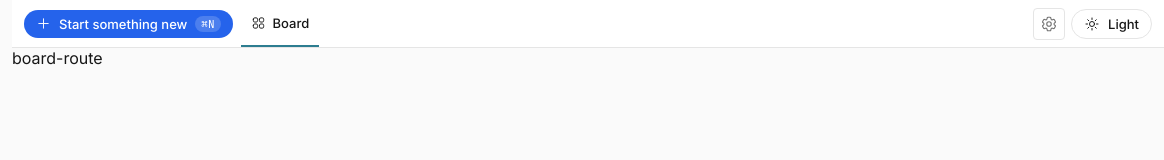
Test: WorkspaceTopBar — front-door 'Start something new' button (WP-001) › navigates to /start when clicked (route probe appears)
Click the button "Start something new ⌘N": (128, 24) [24,10,233,38]
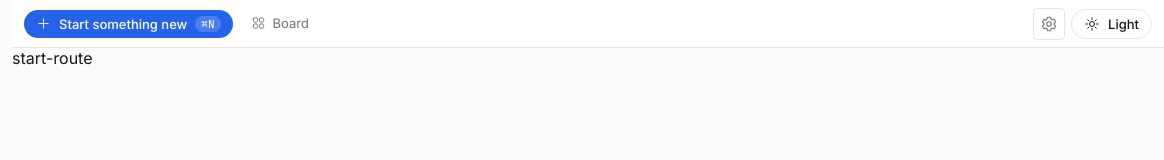
Expected: the text "start-route" is shown, [12,48,92,68]
